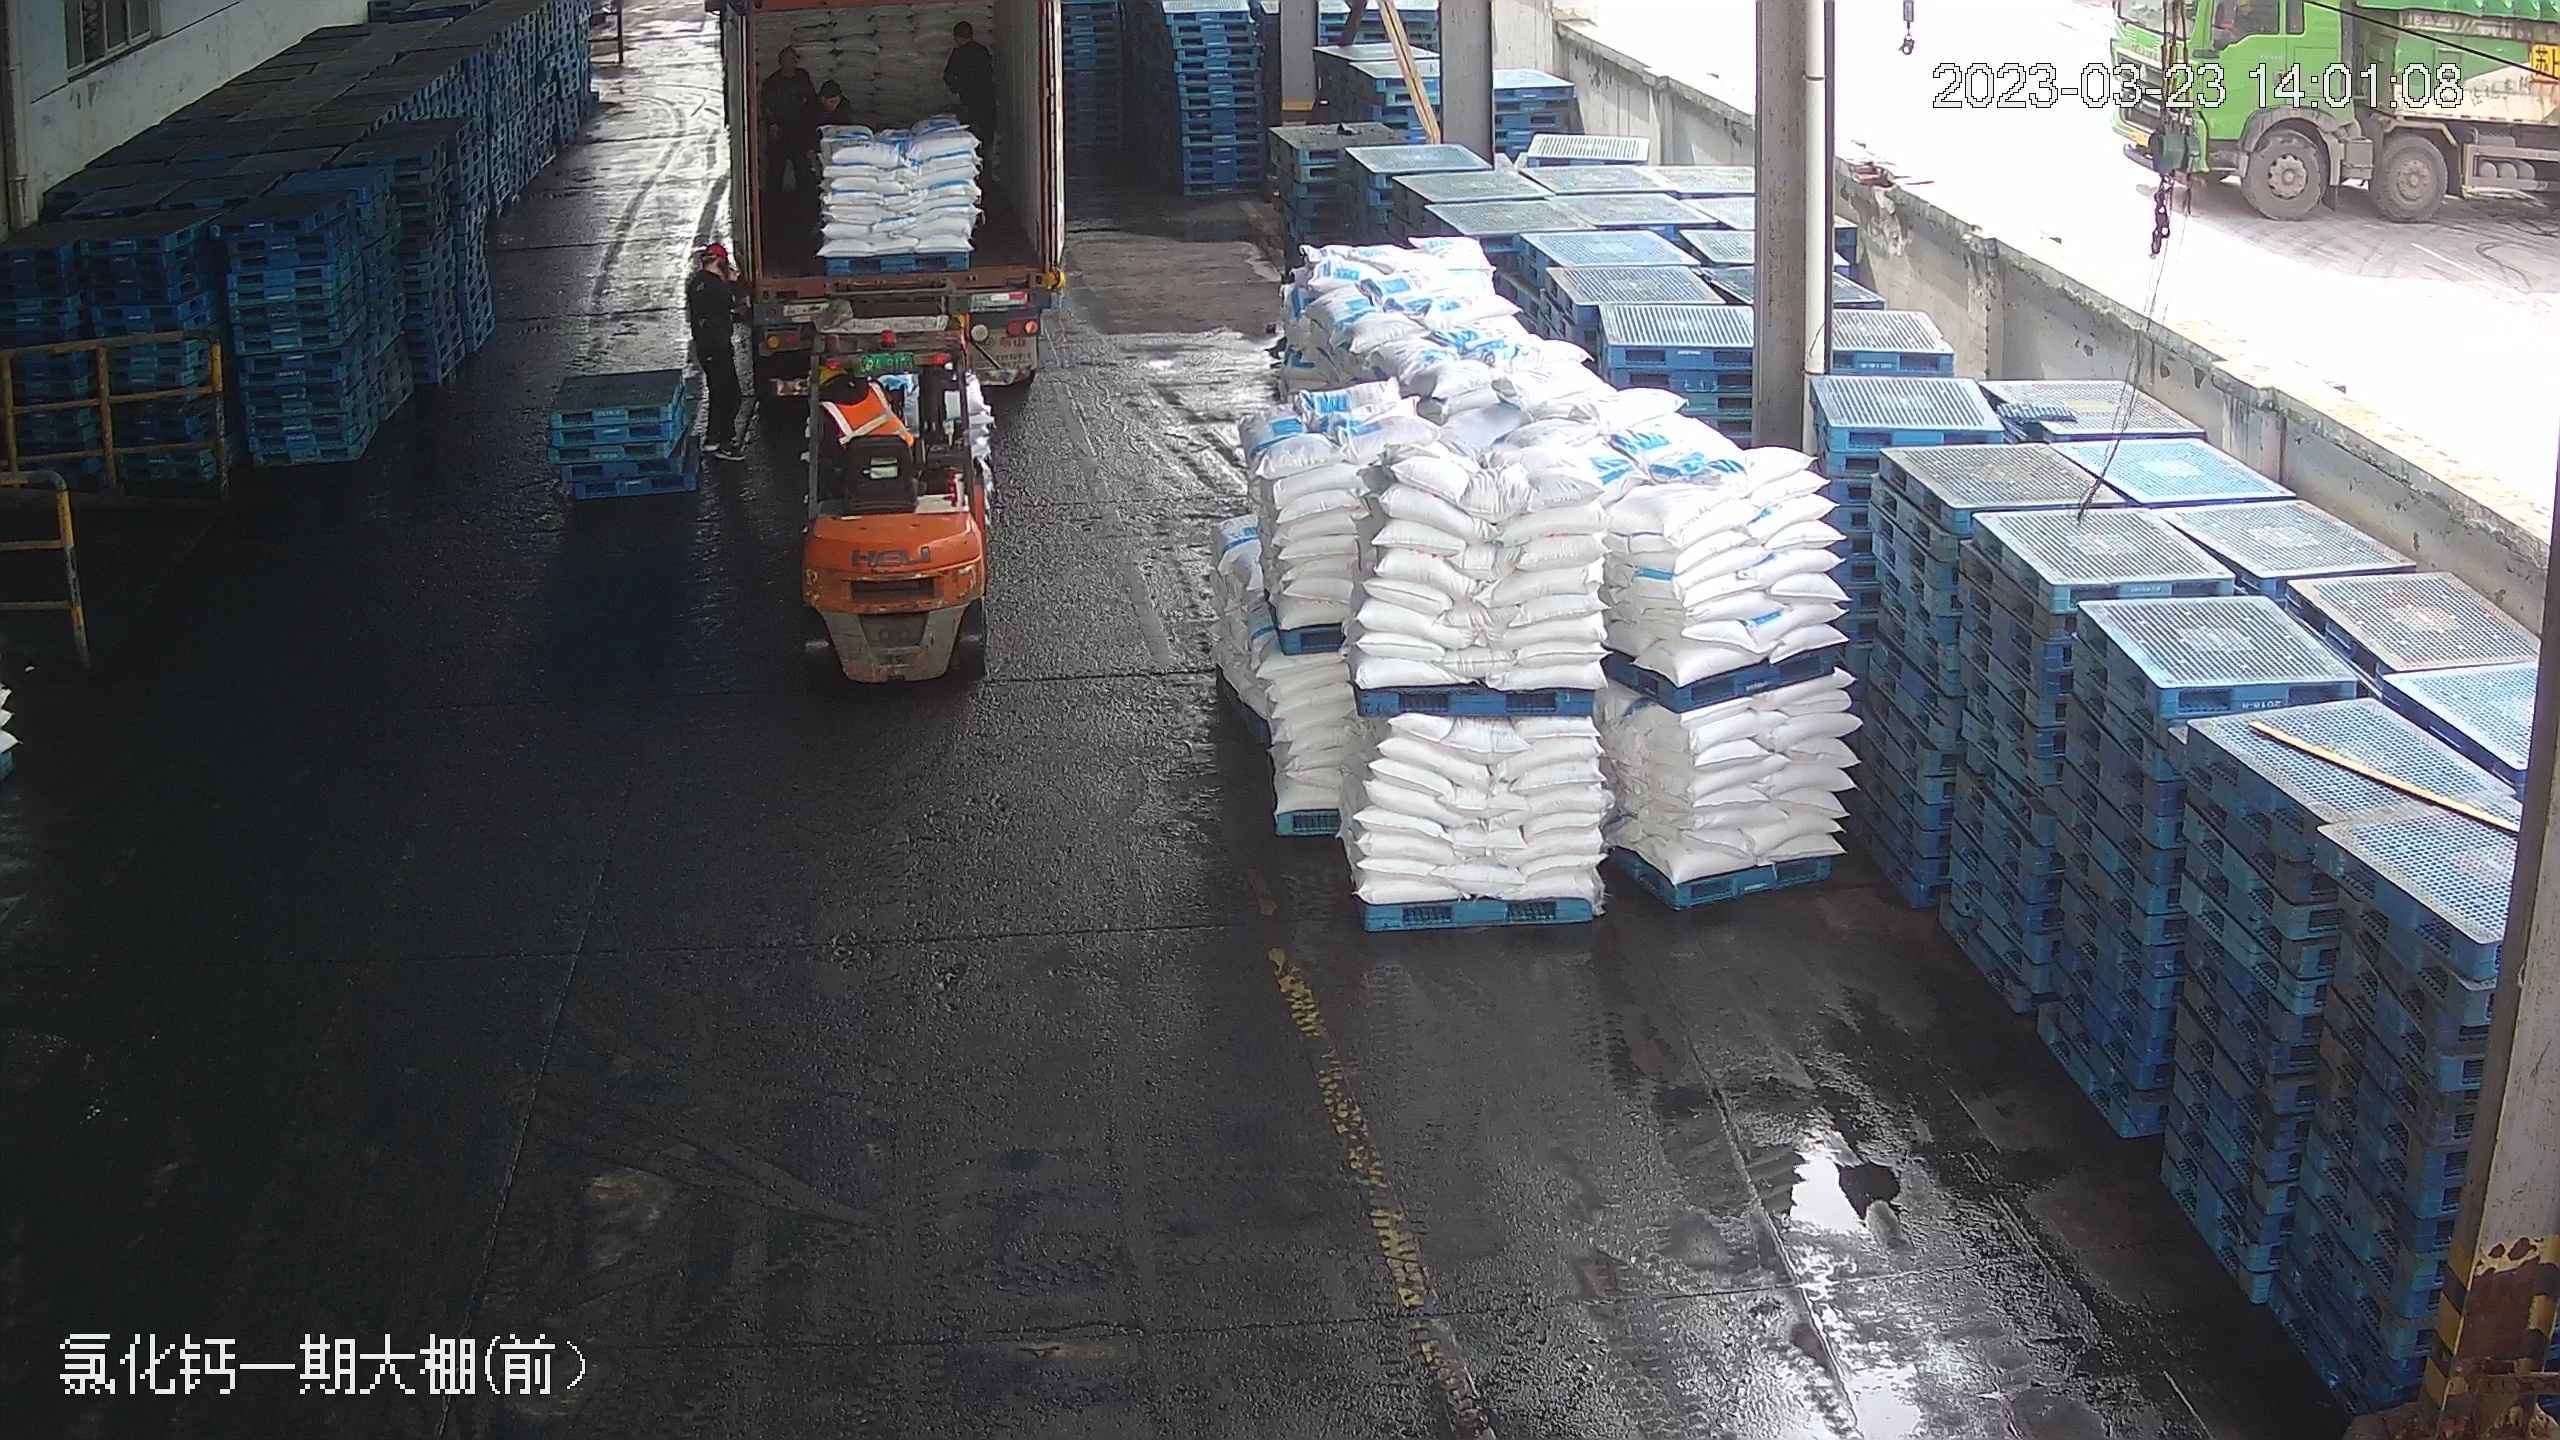head: (814, 358, 894, 425), (761, 42, 821, 98), (686, 235, 739, 297), (943, 18, 994, 69)
helmet: (697, 233, 727, 257), (950, 16, 982, 35), (779, 43, 806, 63)
people: (684, 230, 745, 441), (941, 16, 1008, 140)
